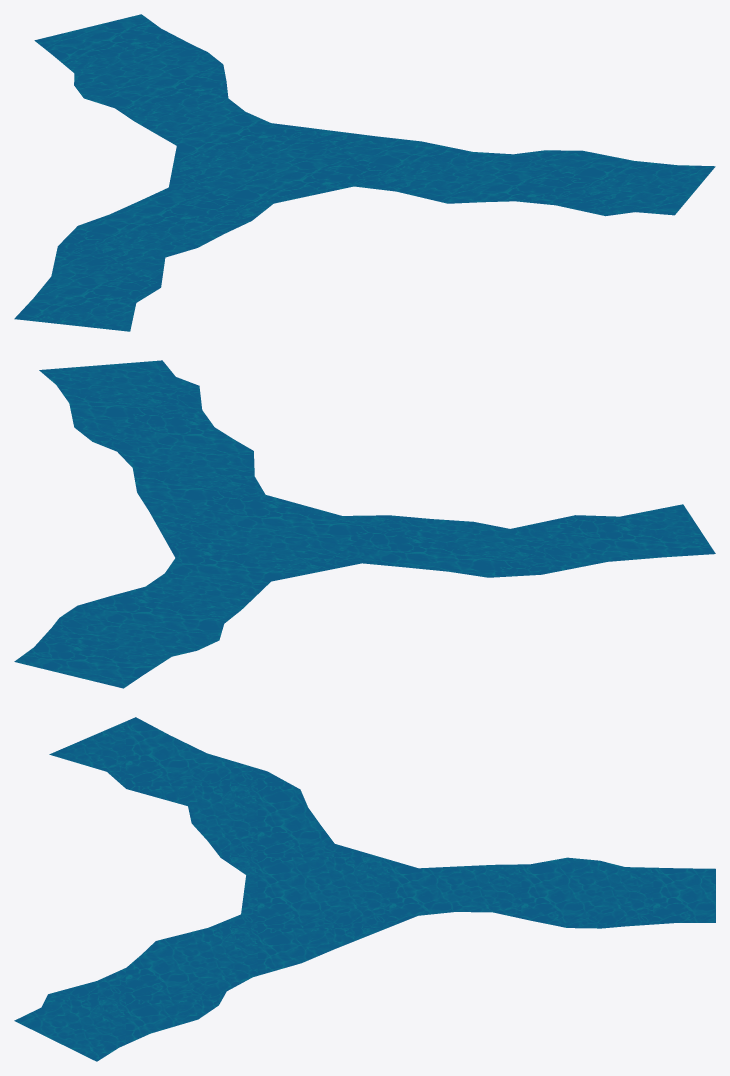
Rendered from River1.glb.
3 views of the same model, one above another, from view 1: azimuth 30°, elevation 25°; view 2: azimuth 150°, elevation 25°; view 3: azimuth 270°, elevation 25° (orthographic). The views are drawn at different scales.
Visible parts, largest first — view 1: River1; view 2: River1; view 3: River1.
Part boxes in pixels (bbox=[...]): River1: bbox=[14, 14, 715, 331]; River1: bbox=[14, 360, 715, 688]; River1: bbox=[14, 717, 715, 1061].
Size of the model in its own units: 7.78 by 0 by 6.69.
Materials: 1 (1 with a texture image).
